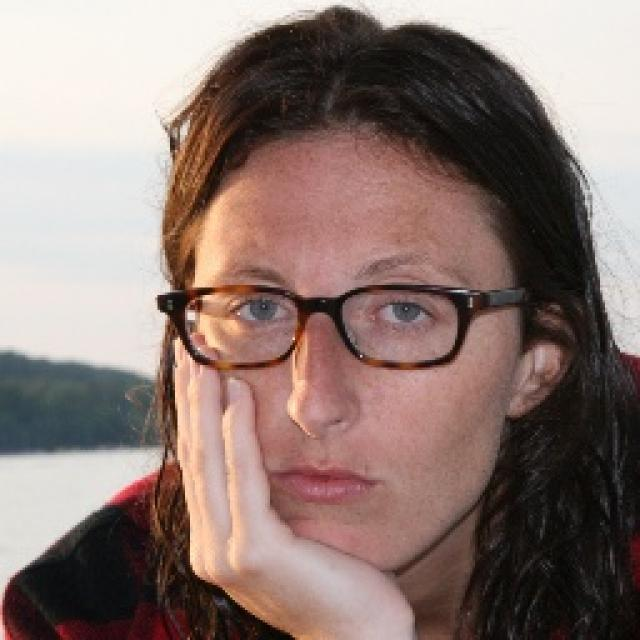earlobe: (503, 302, 577, 421)
